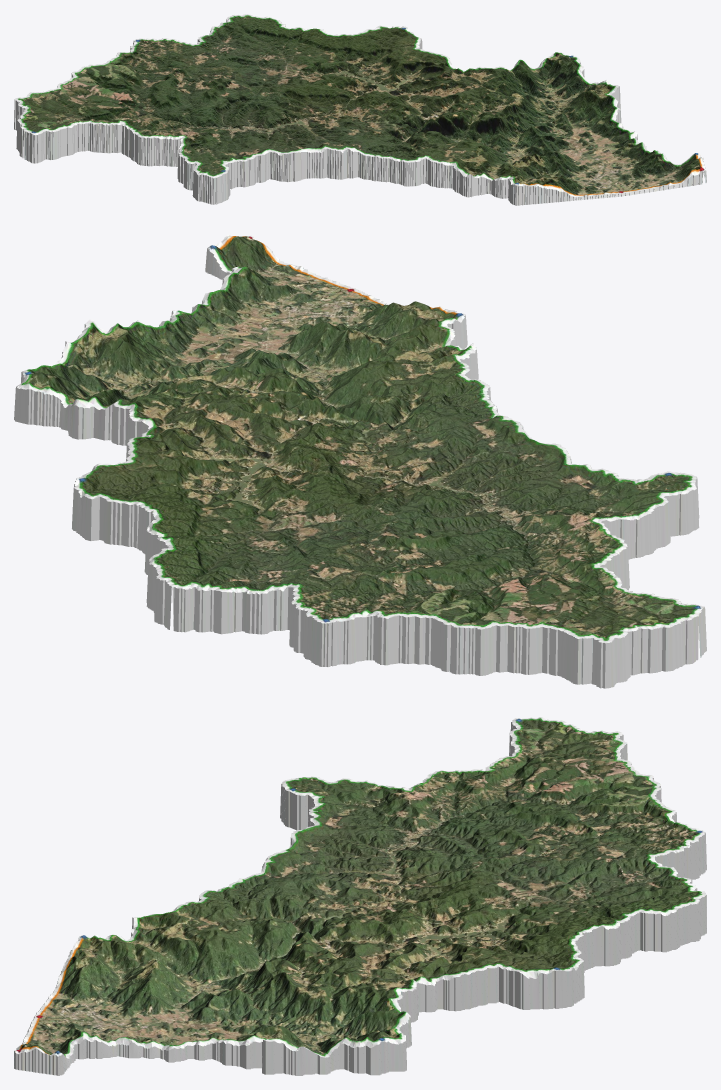
3 views of the same model, one above another, from view 1: azimuth 30°, elevation 25°; view 2: azimuth 150°, elevation 25°; view 3: azimuth 270°, elevation 25° (orthographic). The views are drawn at different scales.
Size of the model in its own units: 1 by 0.0588 by 0.9112.
1 material, 1 textured.
